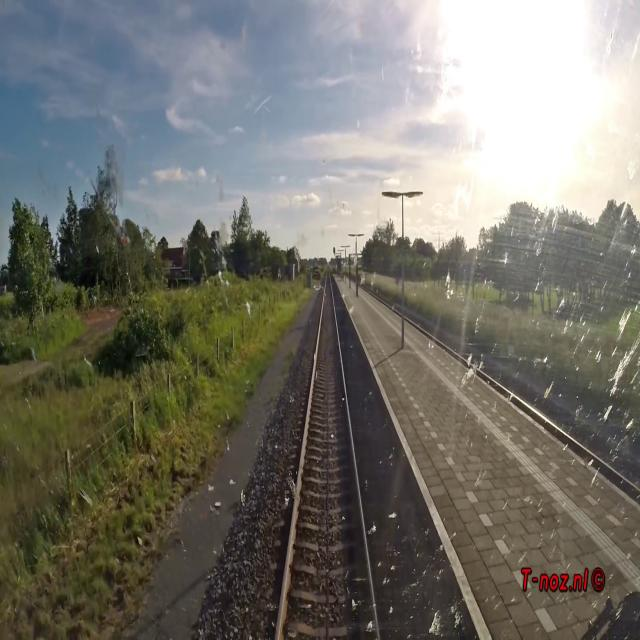rail-track: (280, 270, 376, 639)
